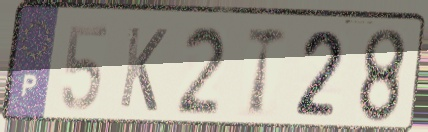2: (290, 26, 347, 120), (174, 23, 230, 117)
5: (58, 22, 111, 114)
8: (356, 26, 409, 126)
K: (116, 23, 171, 116)
T: (243, 24, 291, 121)
